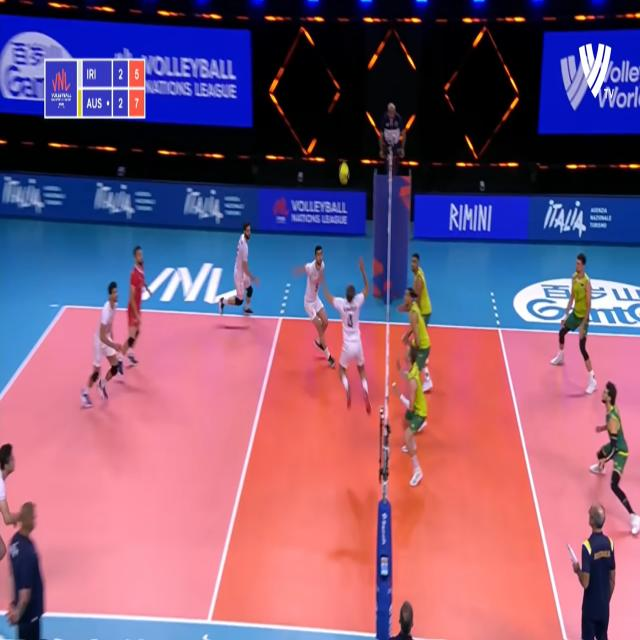player: (591, 381, 638, 532), (83, 270, 119, 412), (332, 283, 370, 417), (557, 252, 595, 384), (296, 242, 336, 364), (216, 217, 261, 319), (124, 247, 155, 381), (398, 339, 424, 494), (397, 284, 433, 376), (407, 249, 432, 323)
